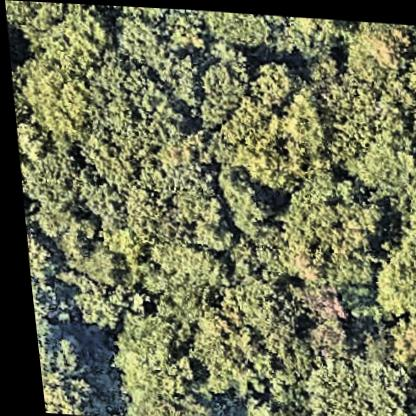tree-top: (269, 165, 387, 304), (93, 17, 201, 162), (217, 76, 335, 200), (97, 304, 212, 416), (5, 43, 106, 164), (283, 333, 416, 416), (110, 145, 215, 249), (202, 285, 296, 400), (330, 16, 416, 139), (46, 223, 137, 332), (13, 151, 118, 233), (131, 239, 221, 322), (14, 1, 119, 65), (358, 228, 416, 336), (331, 132, 415, 198), (270, 12, 343, 87), (29, 327, 89, 415), (208, 157, 268, 230), (20, 234, 66, 327), (201, 8, 280, 56)
